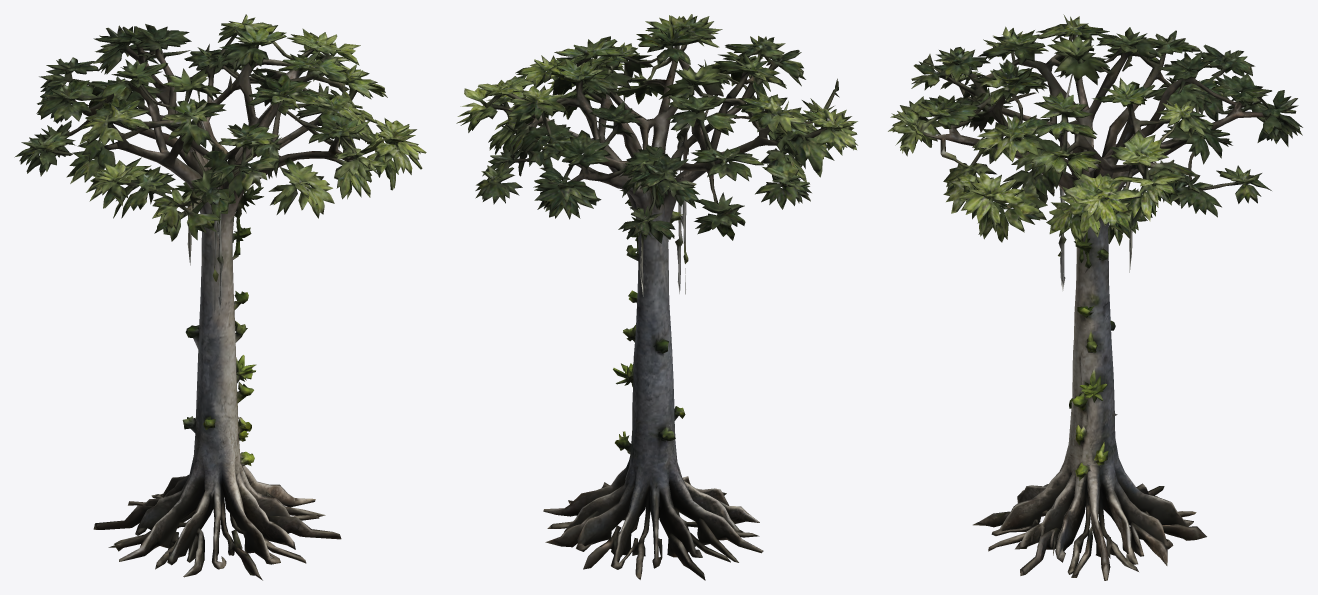
Rendered from jungle_tree.fbx.
3 views of the same model, side by side, from view 1: azimuth 30°, elevation 25°; view 2: azimuth 150°, elevation 25°; view 3: azimuth 270°, elevation 25° (orthographic).
Visible parts, largest first — view 1: jungle_tree; view 2: jungle_tree; view 3: jungle_tree.
Part boxes in pixels (x1,y1,x2,y2): jungle_tree: [14, 14, 426, 580]; jungle_tree: [456, 14, 857, 580]; jungle_tree: [888, 14, 1302, 580].
Size of the model in its own units: 13.76 by 18 by 14.29.
Materials: 1 (1 with a texture image).
